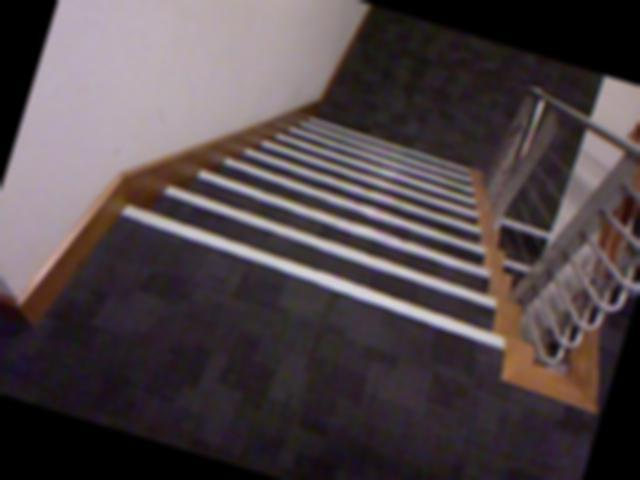Escaleras: (122, 72, 553, 363), (522, 83, 640, 368)
